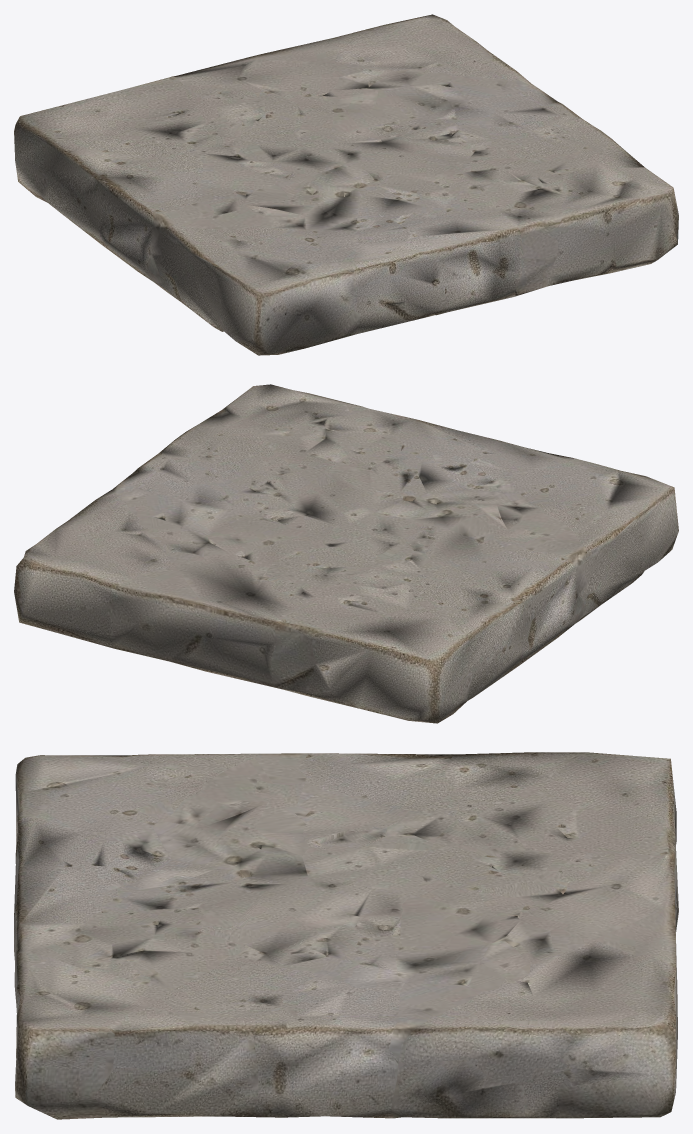
The model's file is pnl_slat_lod1.glb.
The picture shows the model from 3 angles, top to bottom: view 1: azimuth 30°, elevation 25°; view 2: azimuth 150°, elevation 25°; view 3: azimuth 270°, elevation 25°; orthographic projection. The views are drawn at different scales.
Parts seen in each view (by area): view 1: tripo_node_7273629e-ee3f-4da5-a77a-b1927d6b4c12; view 2: tripo_node_7273629e-ee3f-4da5-a77a-b1927d6b4c12; view 3: tripo_node_7273629e-ee3f-4da5-a77a-b1927d6b4c12.
Boxes of the visible parts, x1=… form: tripo_node_7273629e-ee3f-4da5-a77a-b1927d6b4c12: x1=14, y1=14, x2=678, y2=355; tripo_node_7273629e-ee3f-4da5-a77a-b1927d6b4c12: x1=14, y1=384, x2=678, y2=723; tripo_node_7273629e-ee3f-4da5-a77a-b1927d6b4c12: x1=14, y1=752, x2=678, y2=1119.
Bounding box in the file's own units: 0.3034 × 0.0499 × 0.3038.
Materials: 1 (1 with a texture image).
